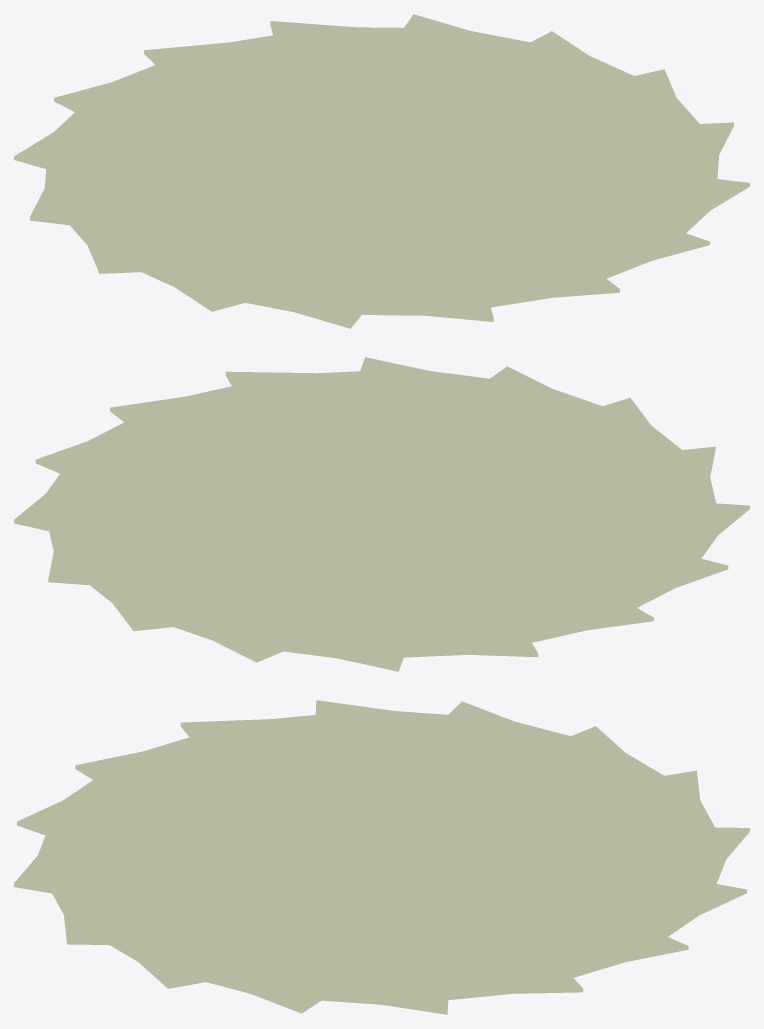
The model's file is saw.dae.
3 views of the same model, one above another, from view 1: azimuth 30°, elevation 25°; view 2: azimuth 150°, elevation 25°; view 3: azimuth 270°, elevation 25° (orthographic).
Parts seen in each view (by area): view 1: Gear6-0; view 2: Gear6-0; view 3: Gear6-0.
Part boxes in pixels (x1,y1,x2,y2): Gear6-0: [14, 14, 749, 328]; Gear6-0: [14, 357, 749, 671]; Gear6-0: [14, 700, 749, 1014].
Bounding box in the file's own units: 496 × 47.95 × 496.
